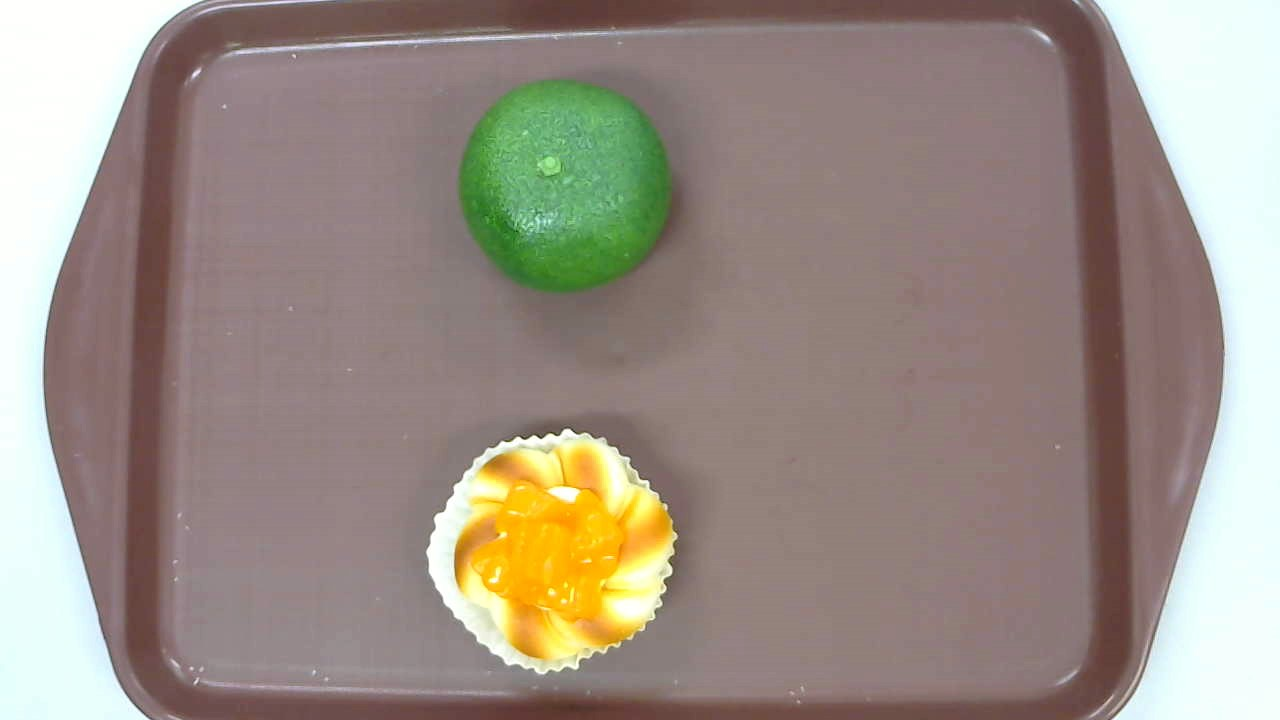green orange: (459, 80, 673, 290)
mango tart: (426, 428, 680, 675)
